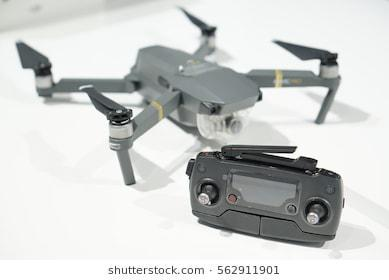drone: (0, 8, 341, 186)
